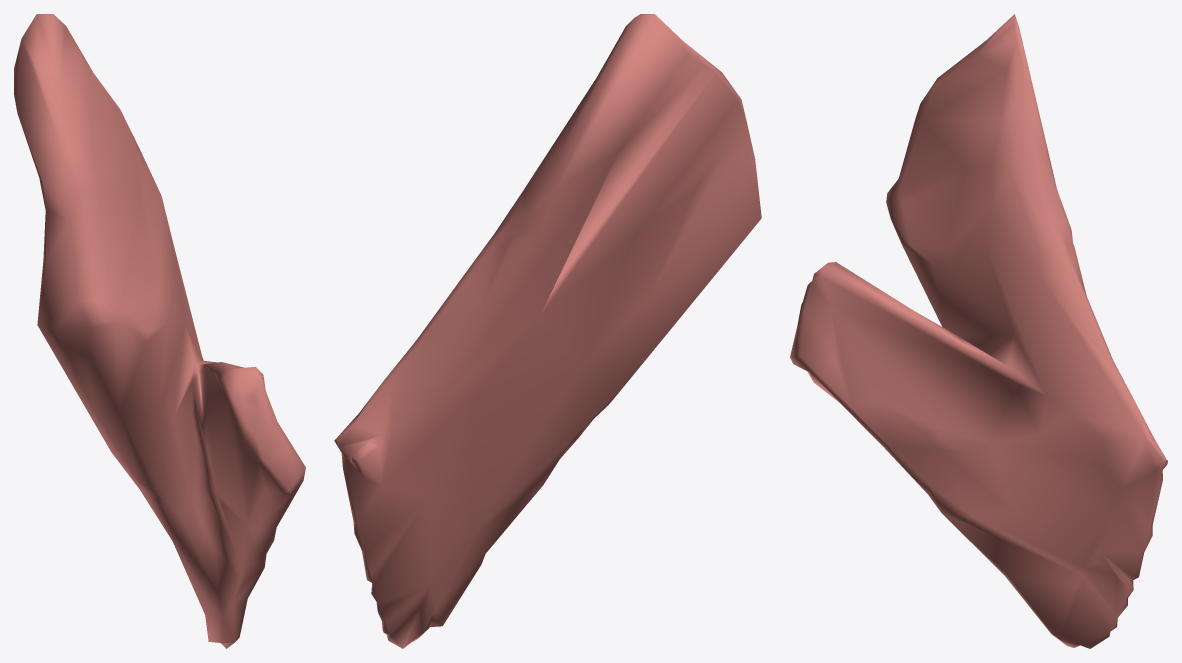
The picture shows the model from 3 angles, left to right: view 1: azimuth 30°, elevation 25°; view 2: azimuth 150°, elevation 25°; view 3: azimuth 270°, elevation 25°; orthographic projection. The views are drawn at different scales.
Parts seen in each view (by area): view 1: ZA_e8c01f01b7977ef7; view 2: ZA_e8c01f01b7977ef7; view 3: ZA_e8c01f01b7977ef7.
Boxes of the visible parts, x1,y1,x2,y2 form: ZA_e8c01f01b7977ef7: (14,14,305,648); ZA_e8c01f01b7977ef7: (334,14,761,648); ZA_e8c01f01b7977ef7: (790,14,1167,648).
Size of the model in its own units: 0.0225 by 0.0492 by 0.0307.
